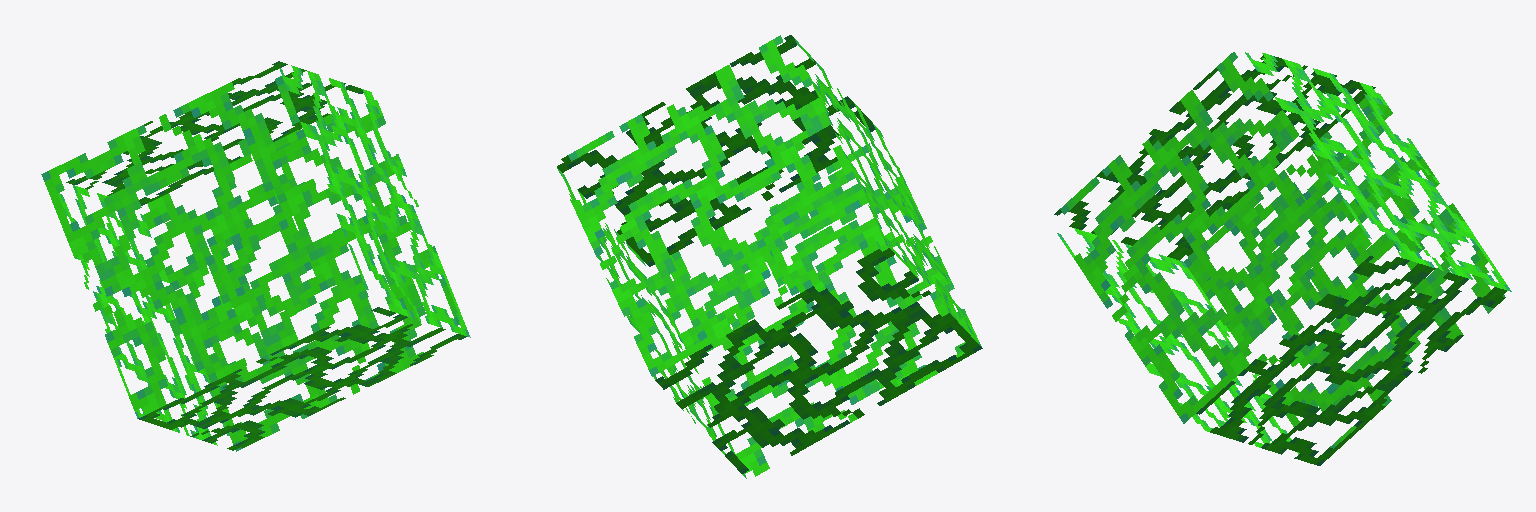
The picture shows the model from 3 angles: view 1: azimuth 30°, elevation 25°; view 2: azimuth 150°, elevation 25°; view 3: azimuth 270°, elevation 25°; orthographic projection.
Visible parts, largest first — view 1: PropEnergy.004_Cube.001; view 2: PropEnergy.004_Cube.001; view 3: PropEnergy.004_Cube.001.
Boxes of the visible parts, x1,y1,x2,y2 form: PropEnergy.004_Cube.001: [41, 61, 470, 451]; PropEnergy.004_Cube.001: [557, 35, 982, 478]; PropEnergy.004_Cube.001: [1054, 52, 1511, 465].
Bounding box in the file's own units: 0.8839 × 1.07 × 1.07.
1 materials, 1 textured.